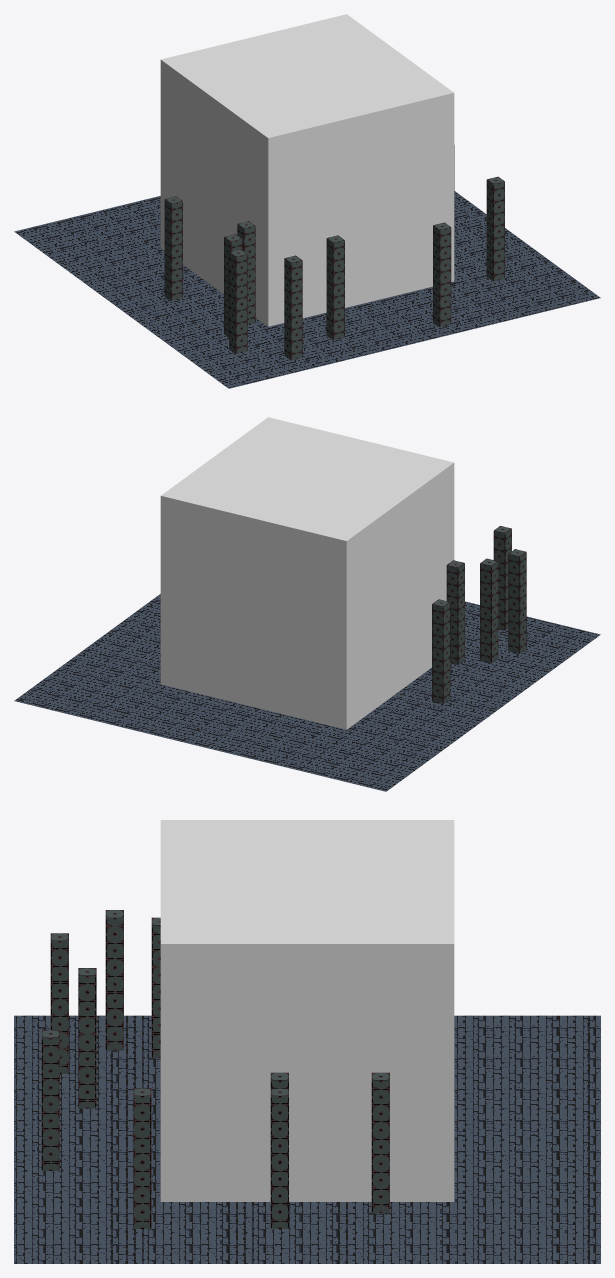
File: cubeLighting.gltf
3 renders of one model, top to bottom at view 1: azimuth 30°, elevation 25°; view 2: azimuth 150°, elevation 25°; view 3: azimuth 270°, elevation 25°, orthographic. The views are drawn at different scales.
Visible parts, largest first — view 1: CubeLightVolume, Plane, Cube.011, Cube.008, Cube.013, Cube.009, Cube.010, Cube.014, Cube.015, Cube.012; view 2: CubeLightVolume, Plane, Cube.012, Cube.013, Cube.014, Cube.015, Cube.011; view 3: CubeLightVolume, Plane, Cube.004, Cube.007, Cube.008, Cube.009, Cube.010, Cube.013, Cube.011, Cube.012.
Boxes of the visible parts, x1,y1,x2,y2 form: CubeLightVolume: [160, 14, 454, 326]; Plane: [14, 191, 600, 388]; Cube.011: [284, 255, 302, 360]; Cube.008: [486, 176, 504, 281]; Cube.013: [229, 249, 247, 354]; Cube.009: [433, 222, 451, 327]; Cube.010: [326, 235, 344, 340]; Cube.014: [164, 196, 182, 301]; Cube.015: [237, 221, 255, 324]; Cube.012: [224, 234, 242, 337]; CubeLightVolume: [160, 417, 454, 729]; Plane: [14, 594, 600, 791]; Cube.012: [480, 558, 498, 663]; Cube.013: [508, 549, 526, 653]; Cube.014: [432, 599, 450, 704]; Cube.015: [446, 560, 464, 664]; Cube.011: [493, 526, 511, 630]; CubeLightVolume: [160, 820, 454, 1201]; Plane: [14, 1015, 600, 1263]; Cube.004: [371, 1072, 389, 1213]; Cube.007: [270, 1088, 288, 1228]; Cube.008: [133, 1088, 151, 1228]; Cube.009: [41, 1030, 59, 1170]; Cube.010: [78, 968, 96, 1108]; Cube.013: [105, 910, 123, 1050]; Cube.011: [50, 933, 68, 1073]; Cube.012: [151, 917, 160, 1058].
Size of the model in its own units: 64 by 32 by 64.
3 materials, 2 textured.
